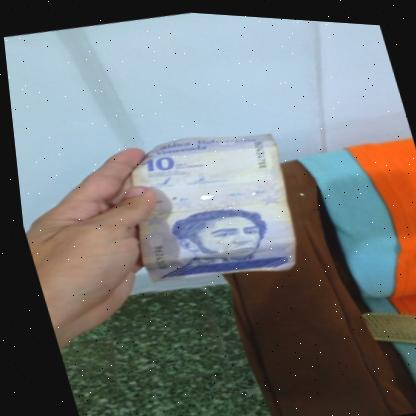vef_front: (102, 115, 309, 294)
